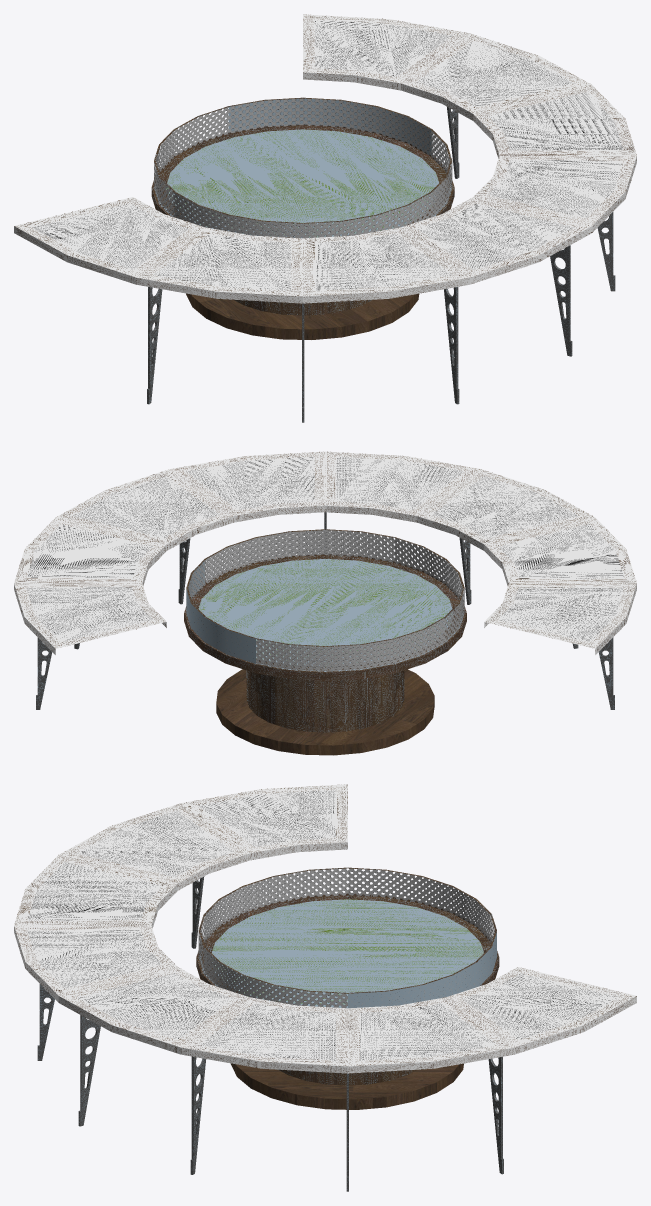
File: half-round-table.fbx
3 renders of one model, top to bottom at view 1: azimuth 30°, elevation 25°; view 2: azimuth 150°, elevation 25°; view 3: azimuth 270°, elevation 25°, orthographic. The views are drawn at different scales.
Parts seen in each view (by area): view 1: Model, ARA_METAL4, ARA_METAL3, ARA_METAL1, ARA_METAL5, ARA_METAL7; view 2: Model, ARA_METAL1, ARA_METAL7, ARA_METAL3, ARA_METAL5; view 3: Model, ARA_METAL4, ARA_METAL5, ARA_METAL7, ARA_METAL3, ARA_METAL1.
Part boxes in pixels (x1,y1,x2,y2): Model: (14, 14, 636, 339); ARA_METAL4: (550, 245, 572, 356); ARA_METAL3: (444, 287, 459, 404); ARA_METAL1: (147, 287, 162, 404); ARA_METAL5: (597, 212, 615, 291); ARA_METAL7: (447, 107, 459, 178); Model: (14, 451, 636, 755); ARA_METAL1: (598, 637, 614, 709); ARA_METAL7: (36, 637, 52, 709); ARA_METAL3: (459, 538, 471, 604); ARA_METAL5: (178, 538, 190, 604); Model: (14, 784, 636, 1109); ARA_METAL4: (78, 1015, 100, 1126); ARA_METAL5: (190, 1056, 206, 1174); ARA_METAL7: (488, 1056, 503, 1174); ARA_METAL3: (37, 984, 54, 1060); ARA_METAL1: (191, 876, 204, 948).
Size of the model in its own units: 134 by 29.92 by 125.
